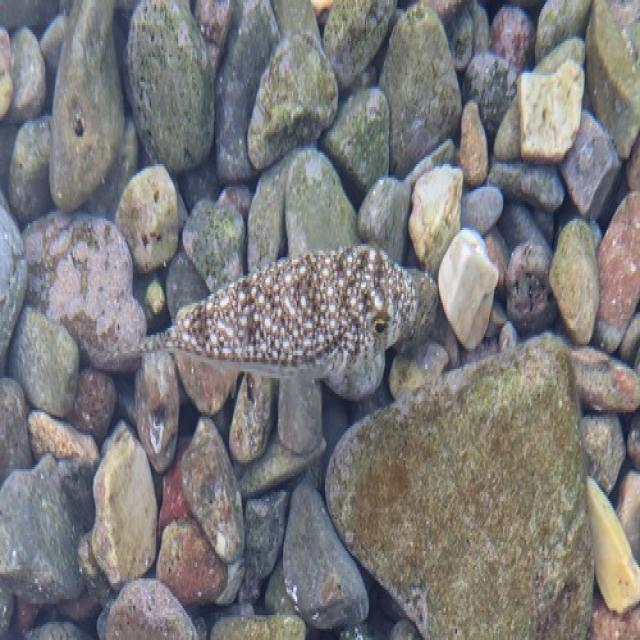Balik: (111, 246, 435, 378)
